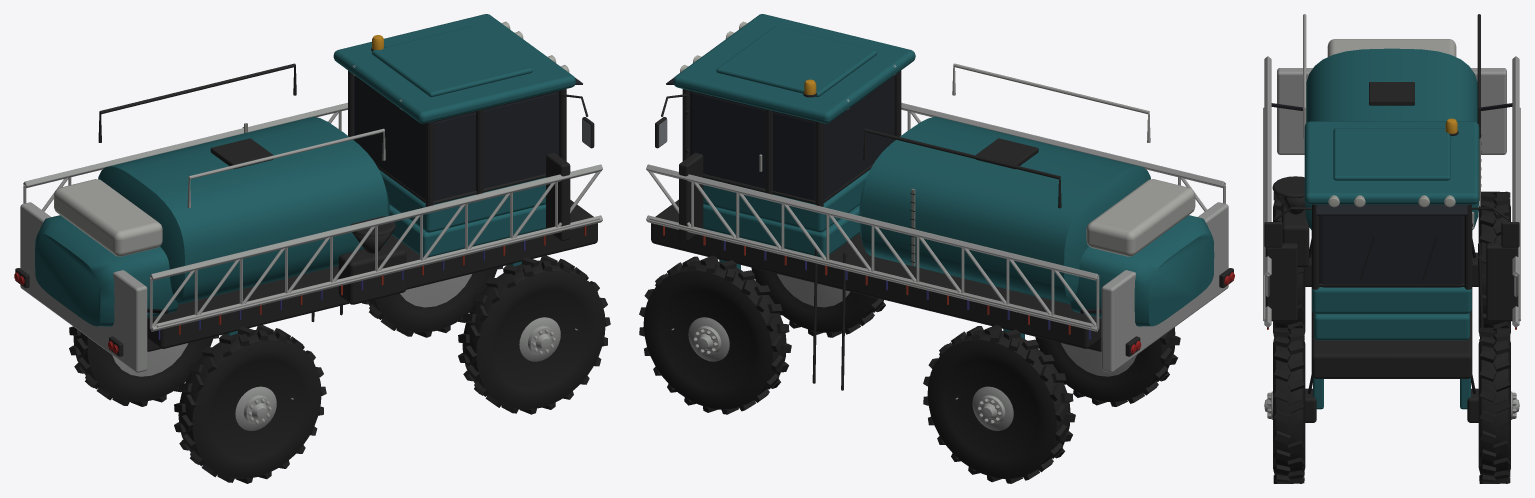
File: SM_Prop_farm_sprayer_0.glb
3 renders of one model, left to right at view 1: azimuth 30°, elevation 25°; view 2: azimuth 150°, elevation 25°; view 3: azimuth 270°, elevation 25°, orthographic.
Visible parts, largest first — view 1: SM_Prop_farm_sprayer_0; view 2: SM_Prop_farm_sprayer_0; view 3: SM_Prop_farm_sprayer_0.
Boxes of the visible parts, left/top/right/bottom form: SM_Prop_farm_sprayer_0: left=14, top=14, right=610, bottom=483; SM_Prop_farm_sprayer_0: left=639, top=14, right=1234, bottom=483; SM_Prop_farm_sprayer_0: left=1263, top=14, right=1520, bottom=483.
Size of the model in its own units: 6.09 by 3.87 by 2.81.
